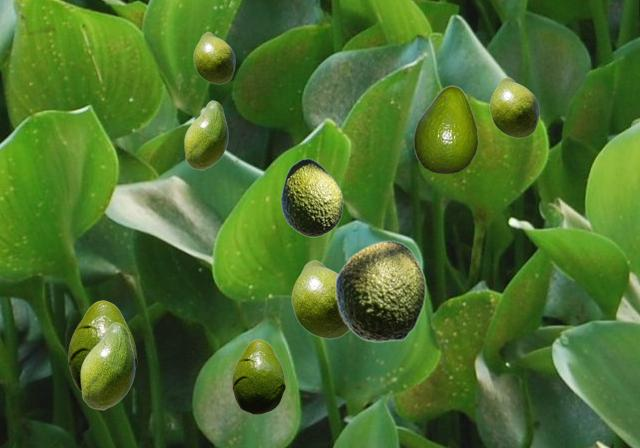avocado: (334, 240, 425, 341), (68, 300, 136, 391), (413, 85, 477, 172), (280, 158, 342, 236), (80, 322, 134, 409), (291, 260, 349, 338), (232, 339, 284, 413), (184, 100, 227, 169), (489, 77, 538, 137), (193, 32, 234, 83)
